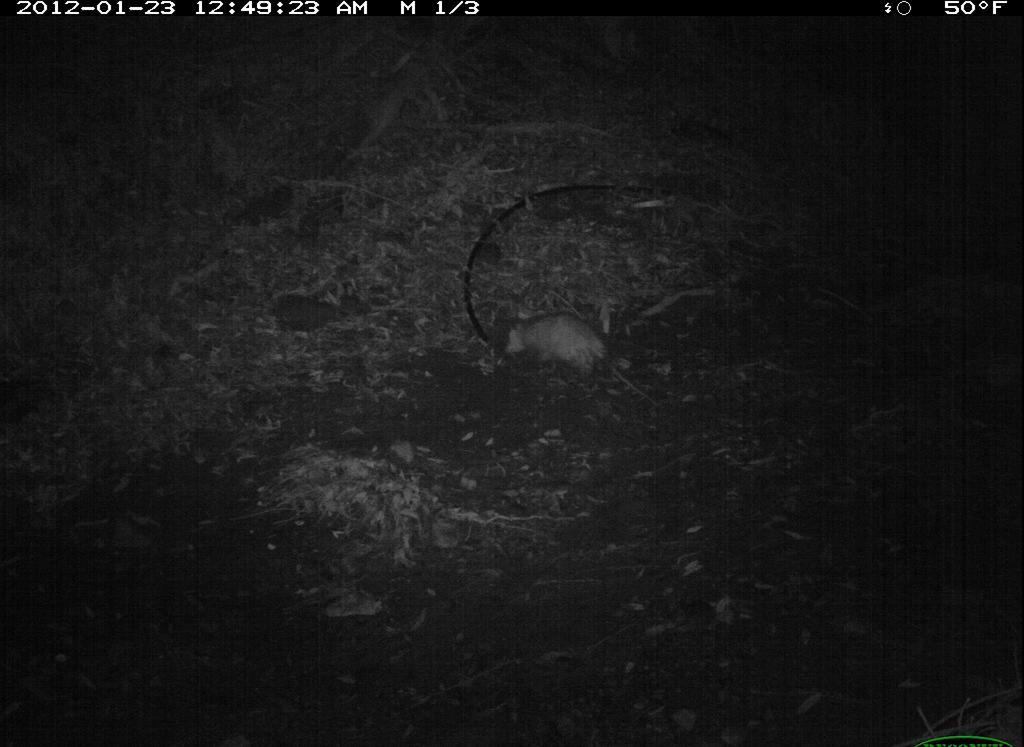opossum: (502, 310, 649, 400)
